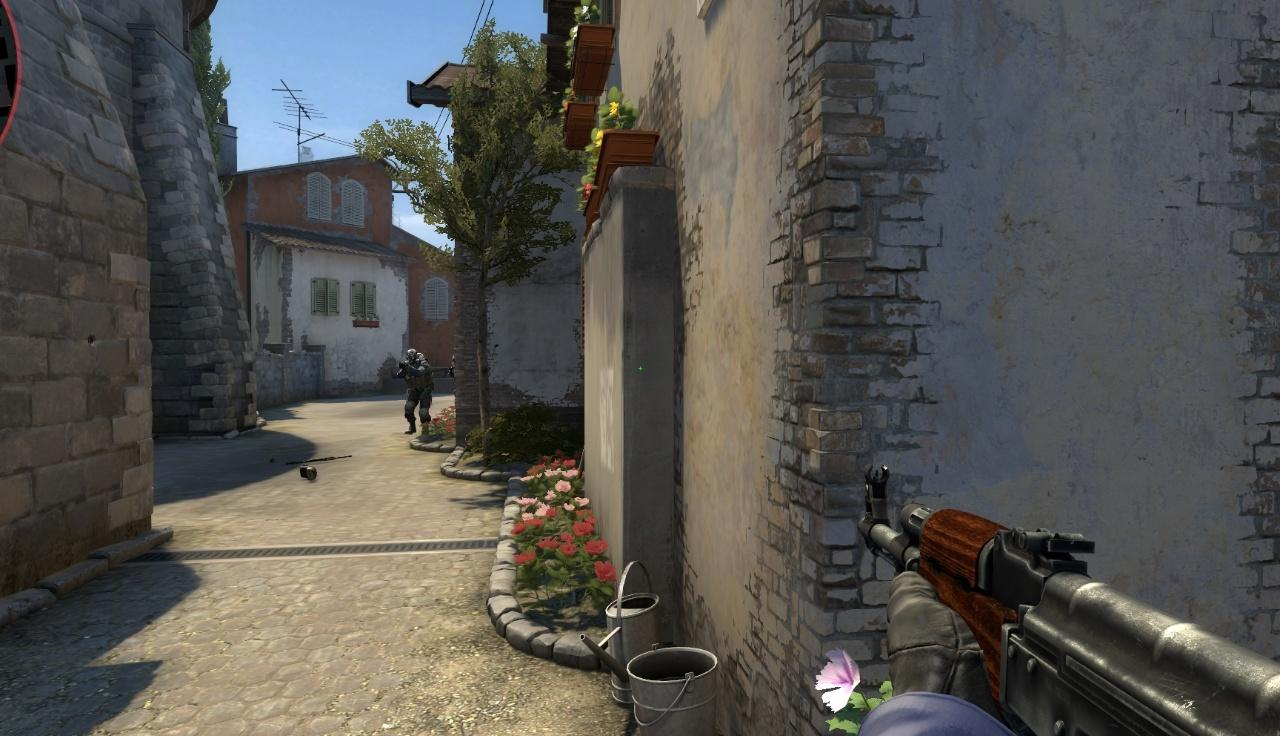ct: (400, 349, 430, 434)
cthead: (405, 349, 419, 364)
rifle: (854, 464, 1280, 736)
